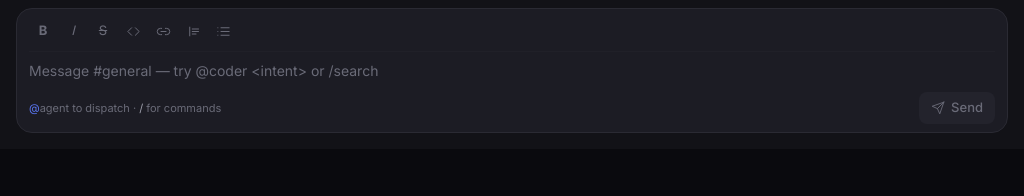
Test: Composer › shows matching slash commands when input starts with /
The image size is (1024, 196).
Type "/sea" into the text box with placeholder "Message #general — try @coder <intent> or /search" at point(512, 72), box [29,60,995,84]
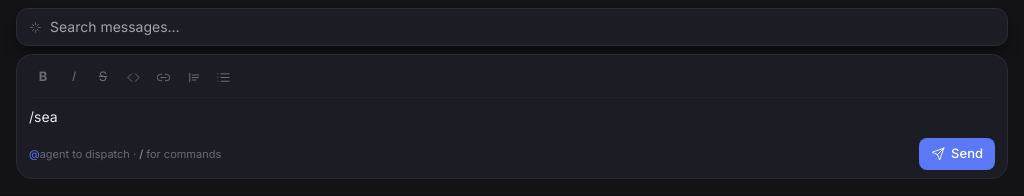
Now the list item "Search messages…" is shown, box [29,18,180,35]
